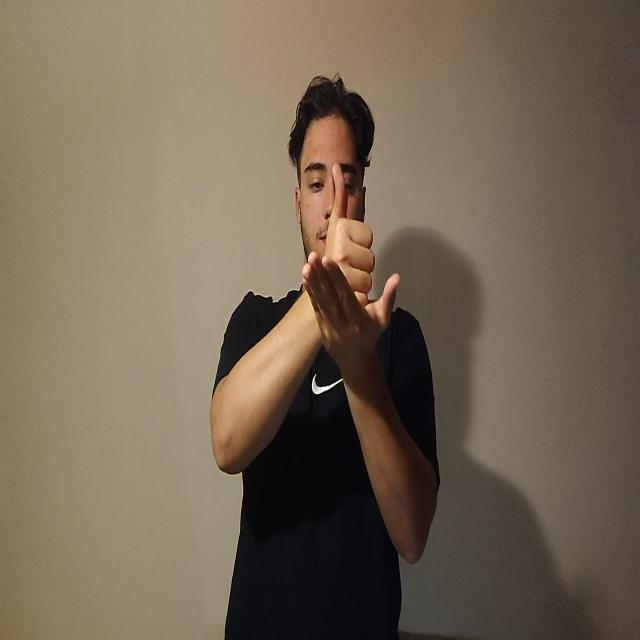help: (302, 164, 402, 364)
